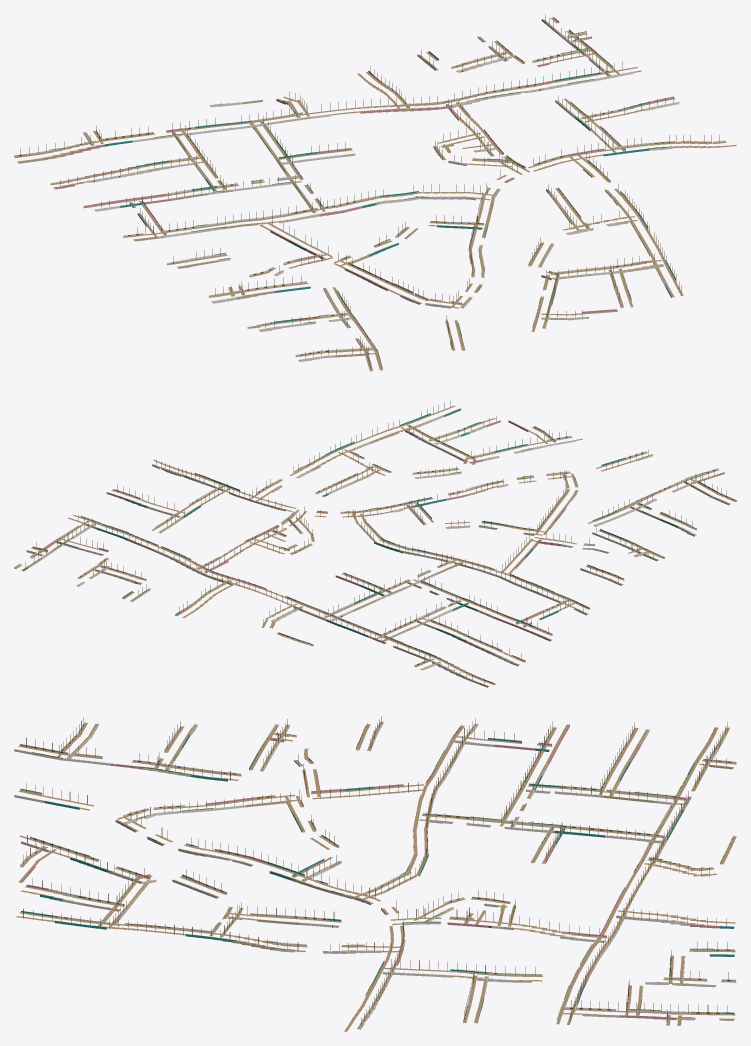
File: noord_res_-14_-11.glb
The picture shows the model from 3 angles, top to bottom: view 1: azimuth 30°, elevation 25°; view 2: azimuth 150°, elevation 25°; view 3: azimuth 270°, elevation 25°; orthographic projection. The views are drawn at different scales.
Parts seen in each view (by area): view 1: noord_res_-14_-11_lod0; view 2: noord_res_-14_-11_lod0; view 3: noord_res_-14_-11_lod0.
Boxes of the visible parts, x1,y1,x2,y2 form: noord_res_-14_-11_lod0: [14, 14, 736, 371]; noord_res_-14_-11_lod0: [14, 400, 736, 687]; noord_res_-14_-11_lod0: [14, 716, 736, 1031].
Size of what is drawn, in the model's own units: 560 by 19.7 by 558.
